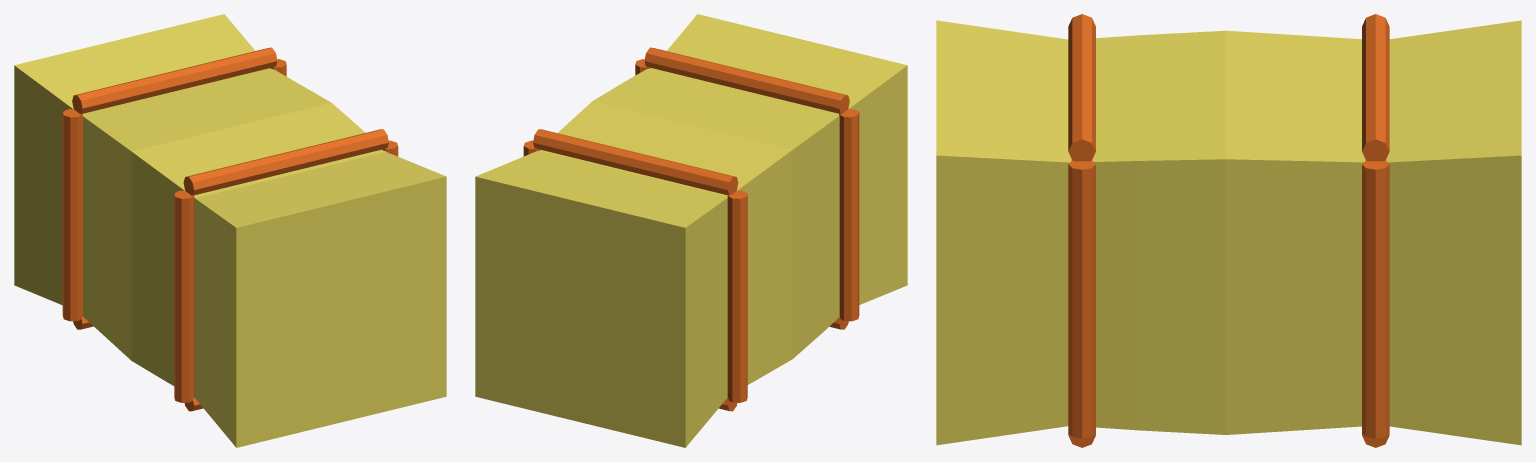
Rendered from hay1.fbx.
3 renders of one model, left to right at view 1: azimuth 30°, elevation 25°; view 2: azimuth 150°, elevation 25°; view 3: azimuth 270°, elevation 25°, orthographic. The views are drawn at different scales.
Parts seen in each view (by area): view 1: Cube, Cylinder.007; view 2: Cube, Cylinder.007; view 3: Cube, Cylinder.007.
Boxes of the visible parts, x1=… form: Cube: x1=14, y1=14, x2=446, y2=447; Cylinder.007: x1=62, y1=47, x2=398, y2=411; Cube: x1=475, y1=14, x2=907, y2=447; Cylinder.007: x1=523, y1=47, x2=859, y2=411; Cube: x1=936, y1=20, x2=1521, y2=445; Cylinder.007: x1=1068, y1=14, x2=1389, y2=447.
Bounding box in the file's own units: 45.43 × 45.85 × 78.81.
